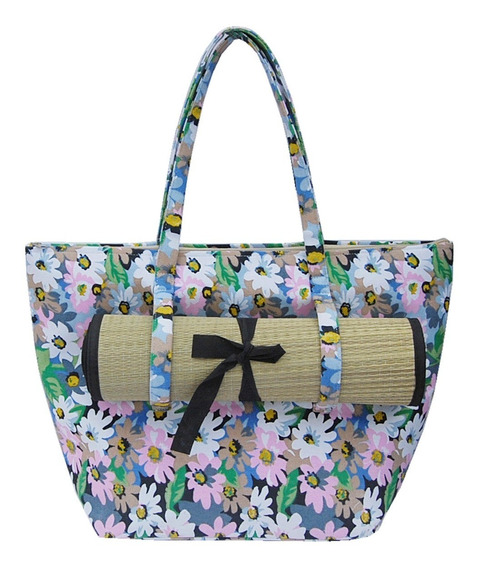cartera: (21, 28, 453, 542)
